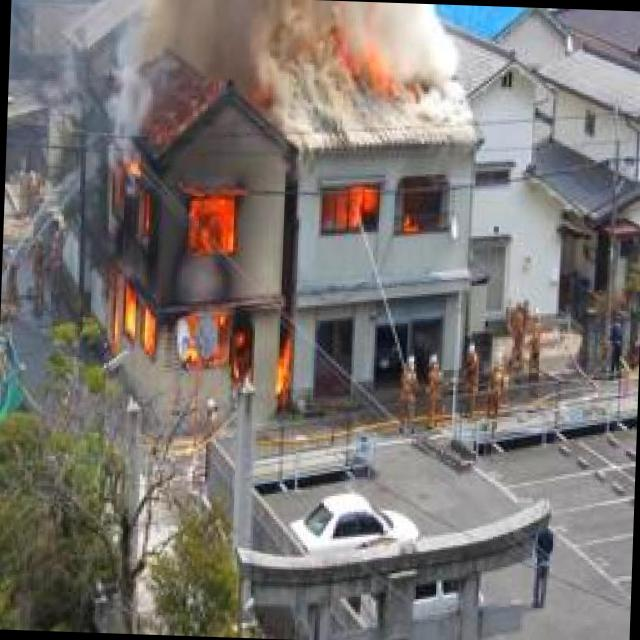Fire: (88, 142, 310, 424), (321, 185, 456, 243)
Smoke: (125, 0, 484, 150)
